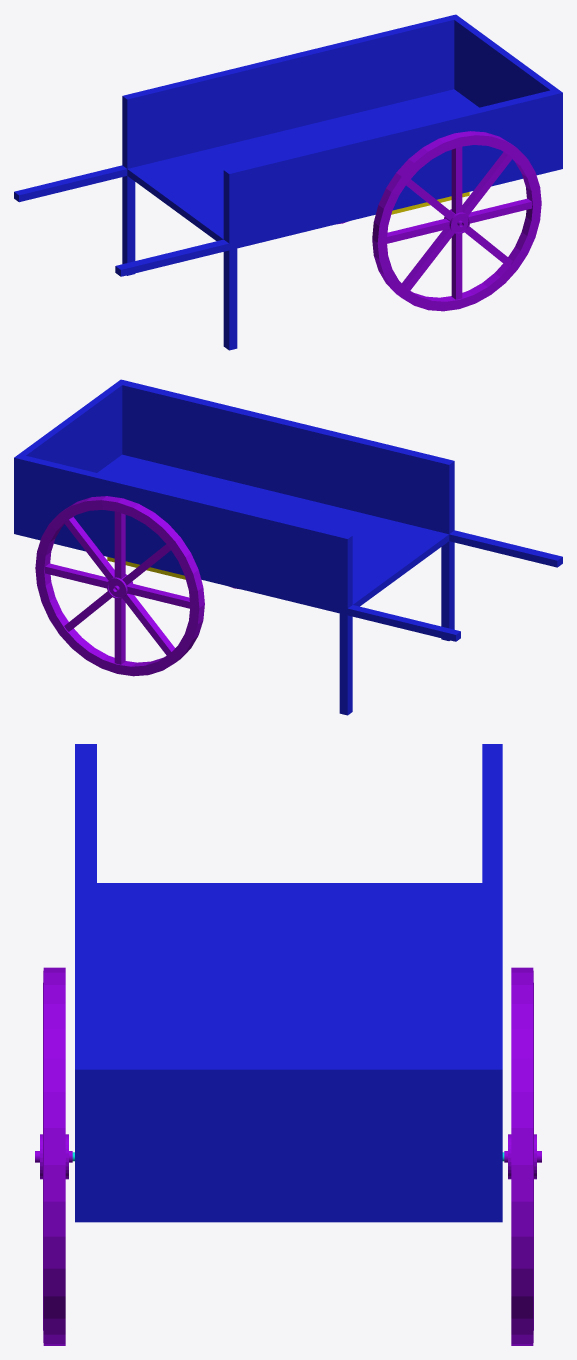
File: carro_para_trastos.fbx
3 views of the same model, one above another, from view 1: azimuth 30°, elevation 25°; view 2: azimuth 150°, elevation 25°; view 3: azimuth 270°, elevation 25° (orthographic). The views are drawn at different scales.
Parts seen in each view (by area): view 1: Carro, Rueda2; view 2: Carro, Rueda; view 3: Carro, Rueda, Rueda2.
Part boxes in pixels (<box>): Carro: <box>14,14,562,350</box>; Rueda2: <box>372,131,541,311</box>; Carro: <box>14,379,562,715</box>; Rueda: <box>35,496,204,676</box>; Carro: <box>75,744,502,1222</box>; Rueda: <box>504,967,541,1345</box>; Rueda2: <box>35,967,72,1345</box>.
Size of the model in its own units: 1080 by 428 by 536.
